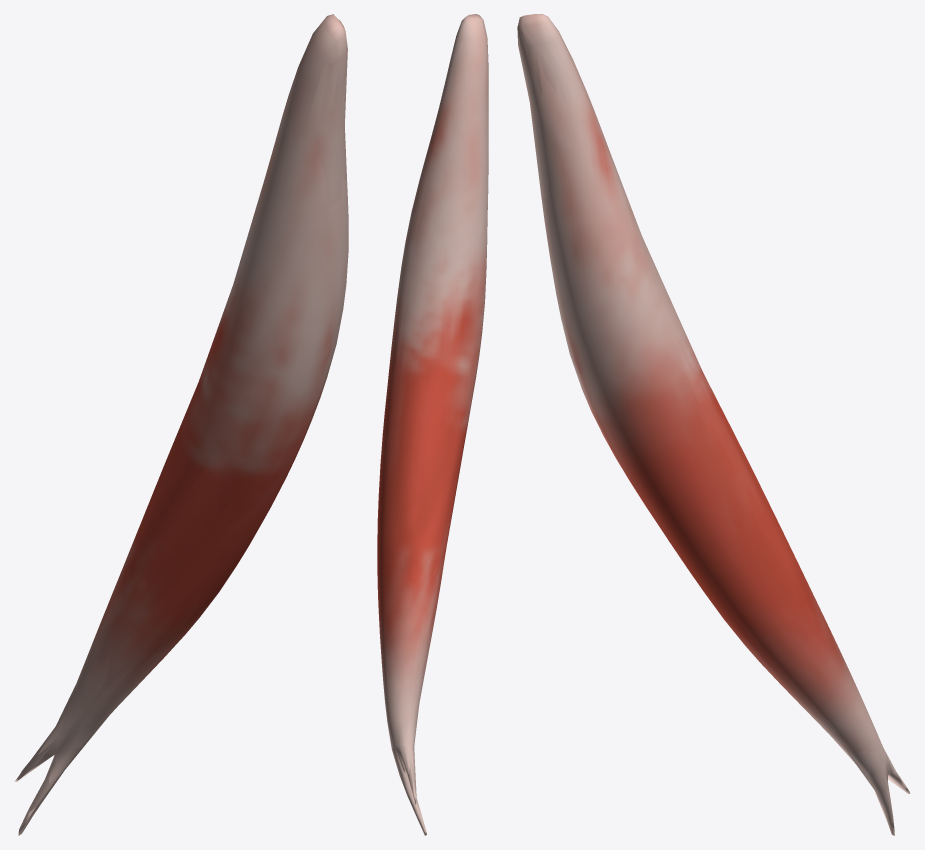
Rendered from L peroneus longus.fbx.
3 renders of one model, left to right at view 1: azimuth 30°, elevation 25°; view 2: azimuth 150°, elevation 25°; view 3: azimuth 270°, elevation 25°, orthographic. The views are drawn at different scales.
Parts seen in each view (by area): view 1: L peroneus longus, L peroneus longus low; view 2: L peroneus longus, L peroneus longus low; view 3: L peroneus longus, L peroneus longus low.
Part boxes in pixels (box(x1,y1,x2,y2)): L peroneus longus: box(14, 14, 348, 835); L peroneus longus low: box(18, 14, 347, 835); L peroneus longus: box(377, 14, 488, 835); L peroneus longus low: box(381, 14, 488, 813); L peroneus longus: box(518, 14, 910, 835); L peroneus longus low: box(517, 14, 908, 832).
Bounding box in the file's own units: 4.05 × 20.76 × 8.39.
